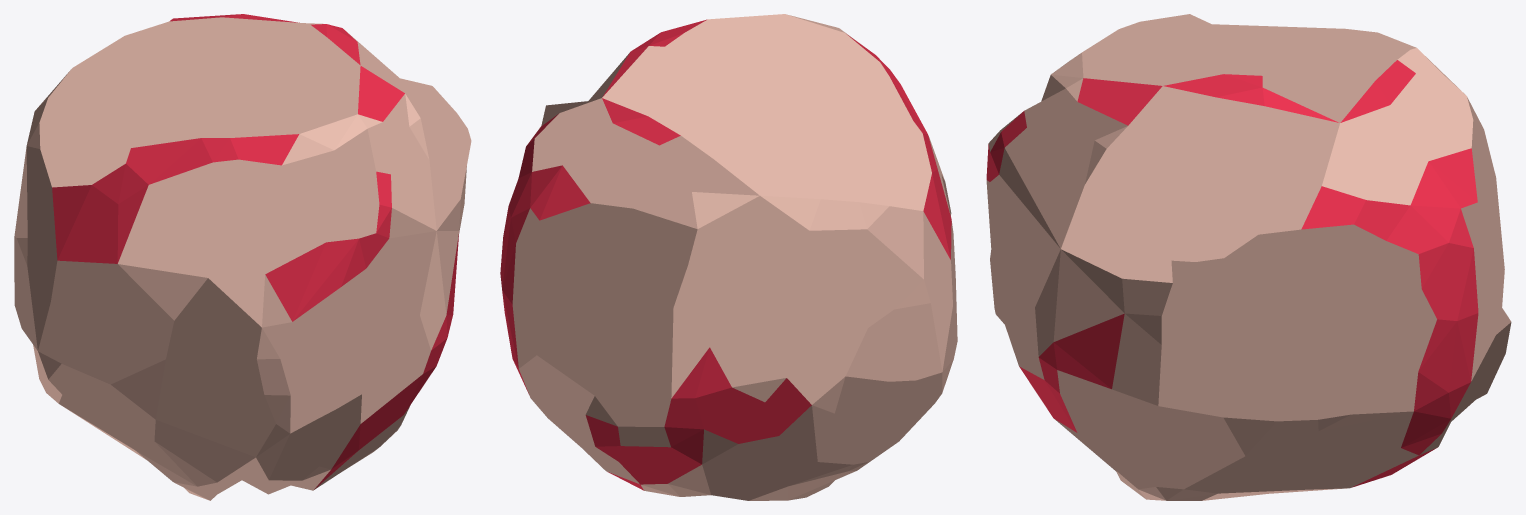
The model's file is coloringguys_stone 1.fbx.
The picture shows the model from 3 angles, left to right: view 1: azimuth 30°, elevation 25°; view 2: azimuth 150°, elevation 25°; view 3: azimuth 270°, elevation 25°; orthographic projection. The views are drawn at different scales.
Visible parts, largest first — view 1: Куб.002; view 2: Куб.002; view 3: Куб.002.
Boxes of the visible parts, left/top/right/bottom form: Куб.002: left=14, top=14, right=471, bottom=500; Куб.002: left=500, top=14, right=957, bottom=500; Куб.002: left=986, top=14, right=1511, bottom=500.
Bounding box in the file's own units: 828 × 842 × 869.
